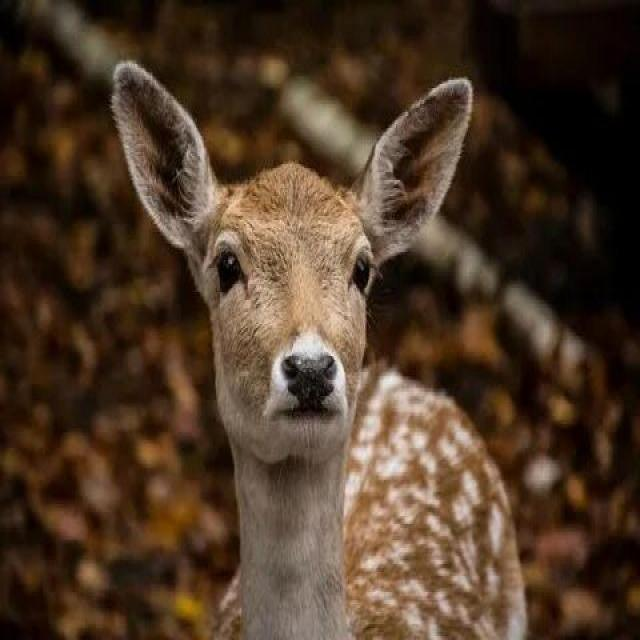deer: (148, 113, 550, 608)
